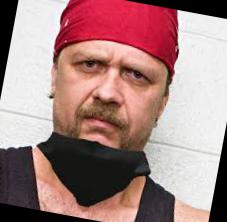mask_weared_incorrect: (45, 49, 167, 174)
